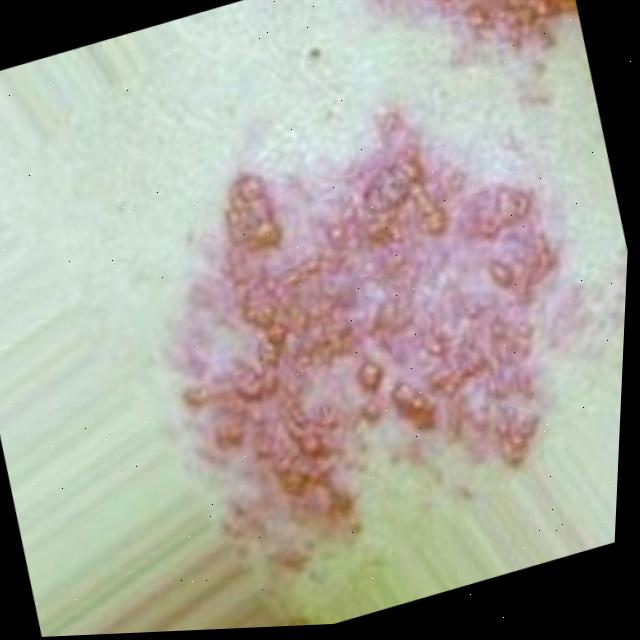Shingles: (112, 86, 599, 589), (350, 0, 585, 94)
